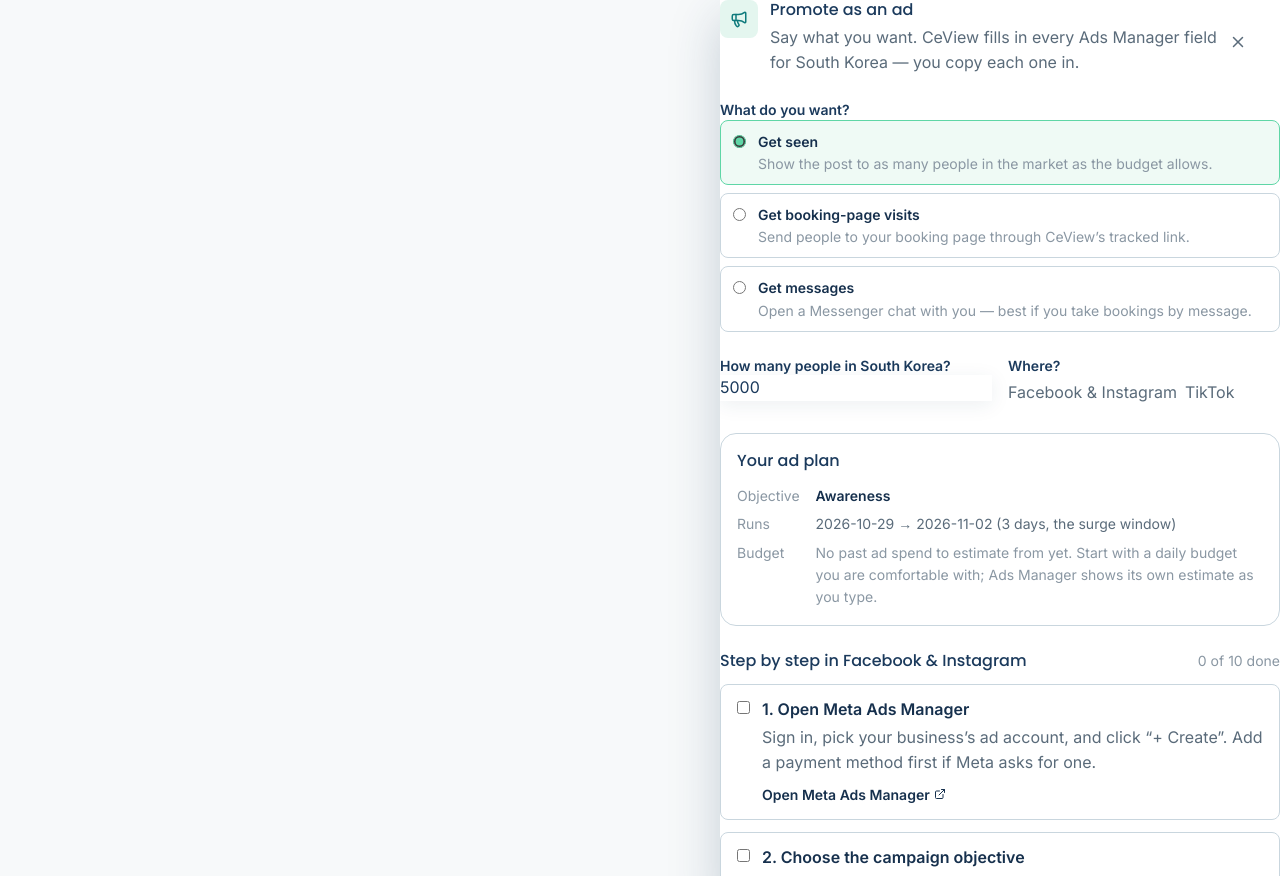
Test: AdPlannerDrawer › switches the walkthrough to TikTok and flags the image
This screenshot has width=1280, height=876.
Step 1. Click the button "TikTok" → x=1210, y=392, box [1185,375,1234,409]
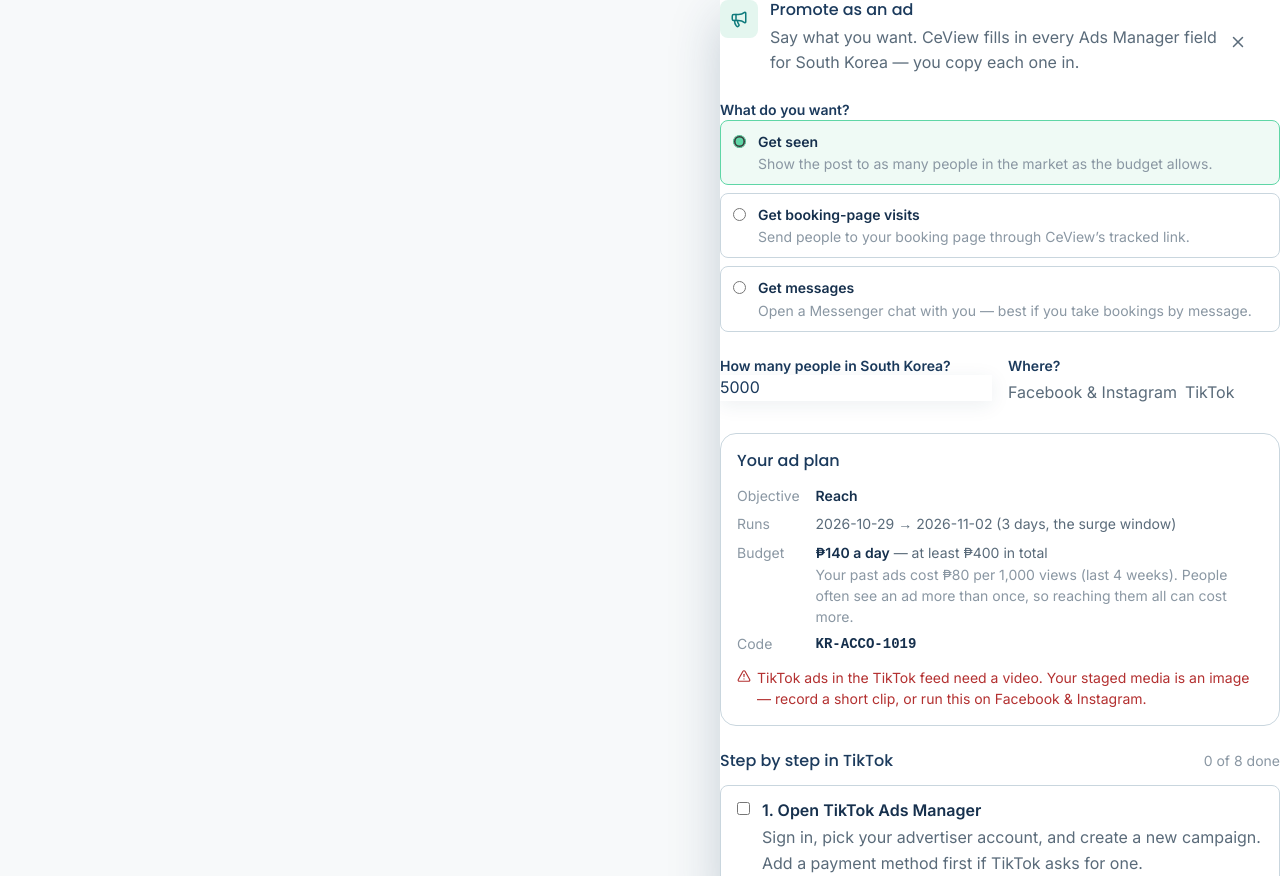
Now the text "need a video" is shown, box [757,669,1250,707]
Now the heading "Step by step in TikTok" is shown, box [720,750,893,773]
